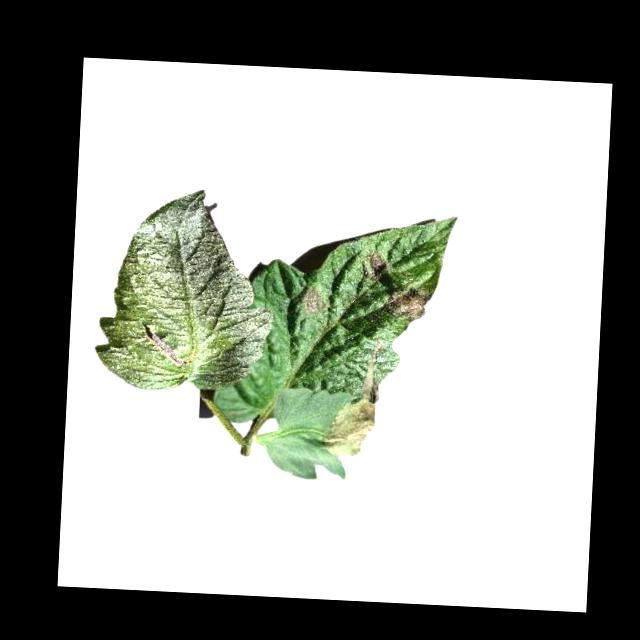Late_blight: (321, 398, 375, 458), (359, 339, 385, 402), (385, 285, 430, 320), (303, 284, 326, 313), (365, 247, 387, 277)
healthy: (94, 185, 279, 397)
